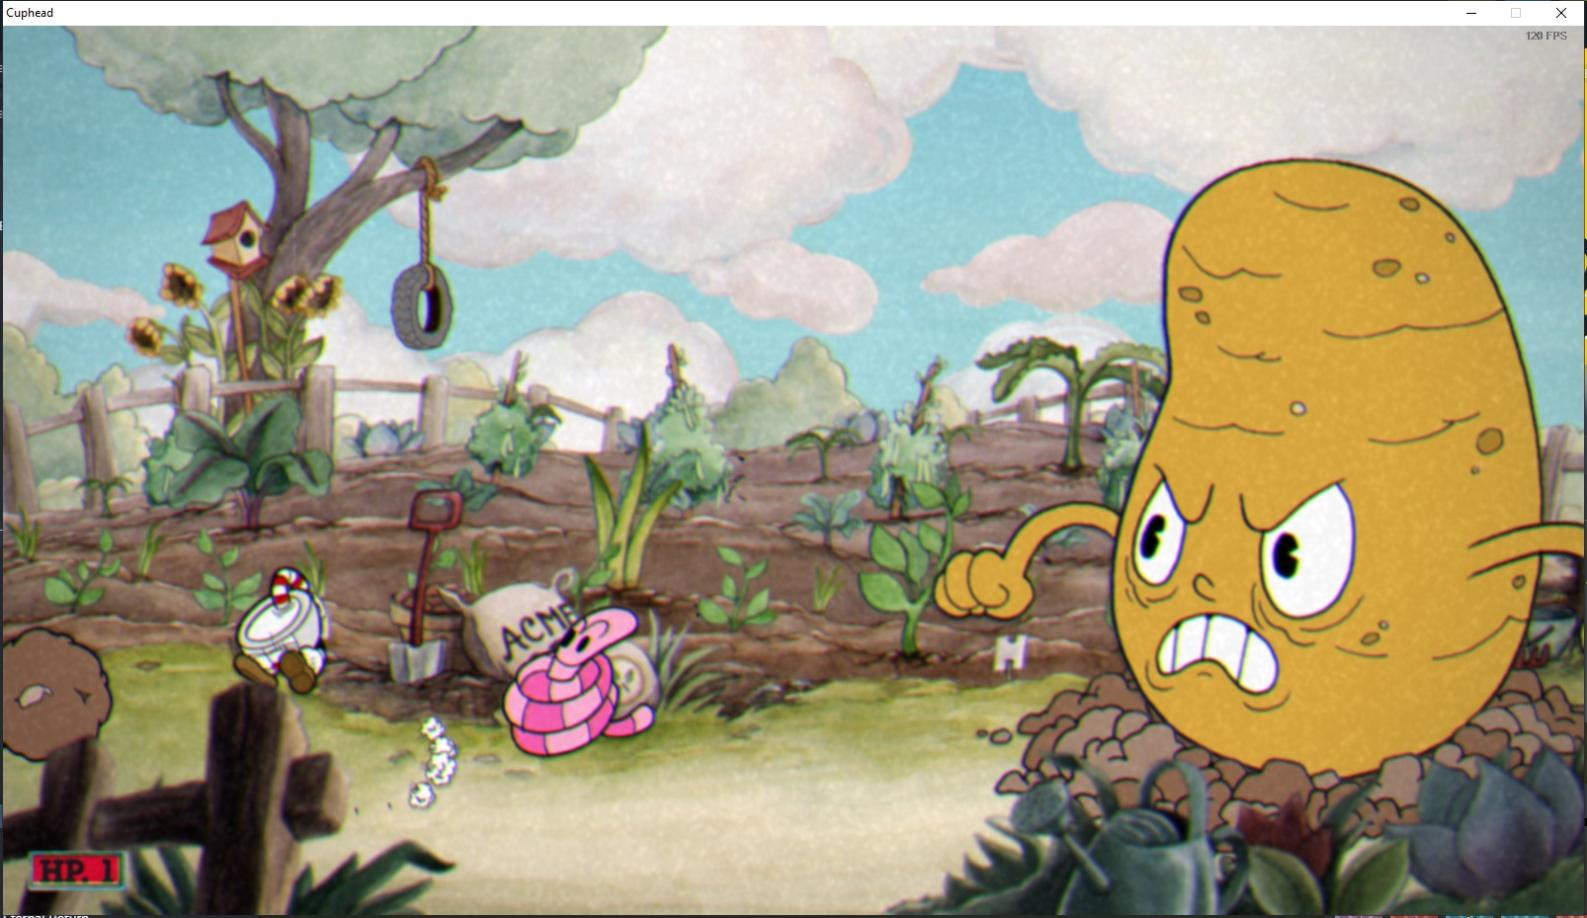dirt: (1, 624, 120, 766)
hp1: (91, 848, 128, 892)
player: (224, 558, 340, 703)
potato_boss: (1066, 146, 1587, 813)
worm: (478, 593, 671, 768)
